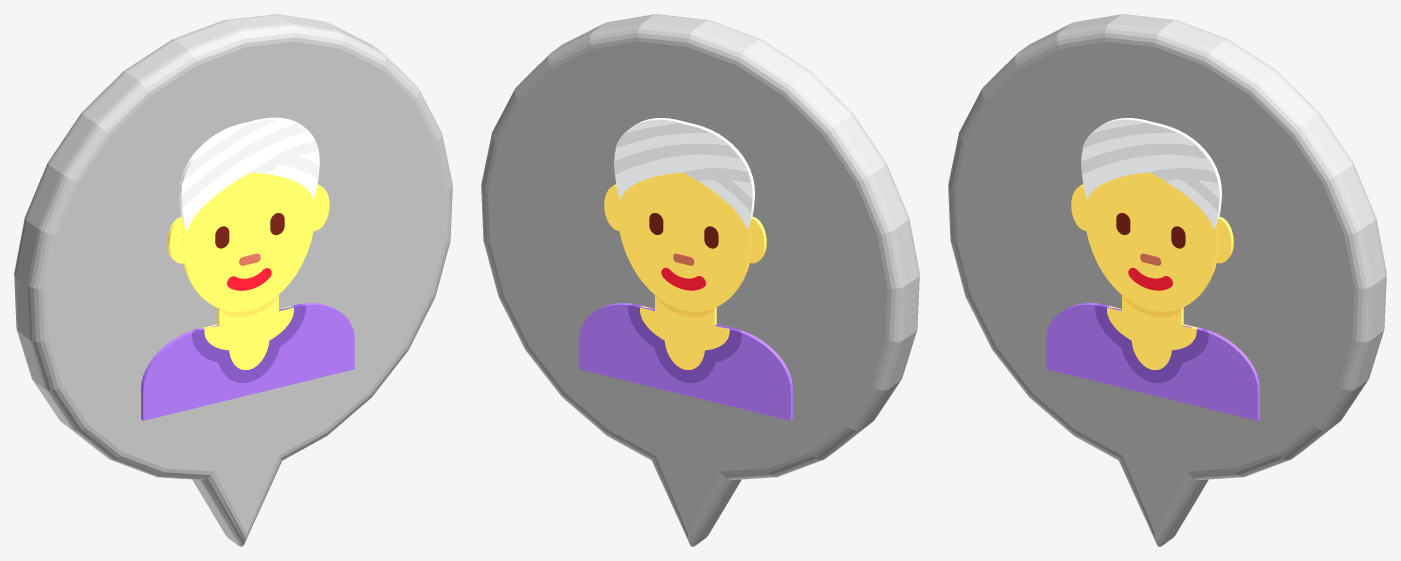
Rendered from woman_wearing_turban.glb.
3 views of the same model, side by side, from view 1: azimuth 30°, elevation 25°; view 2: azimuth 150°, elevation 25°; view 3: azimuth 330°, elevation 25° (orthographic).
Visible parts, largest first — view 1: EmotionBubble; view 2: EmotionBubble; view 3: EmotionBubble.
Boxes of the visible parts, box(x1,y1,x2,y2) form: EmotionBubble: box(14, 14, 452, 546); EmotionBubble: box(481, 14, 919, 546); EmotionBubble: box(948, 14, 1386, 546).
Bounding box in the file's own units: 5.29 × 6.16 × 0.754.
